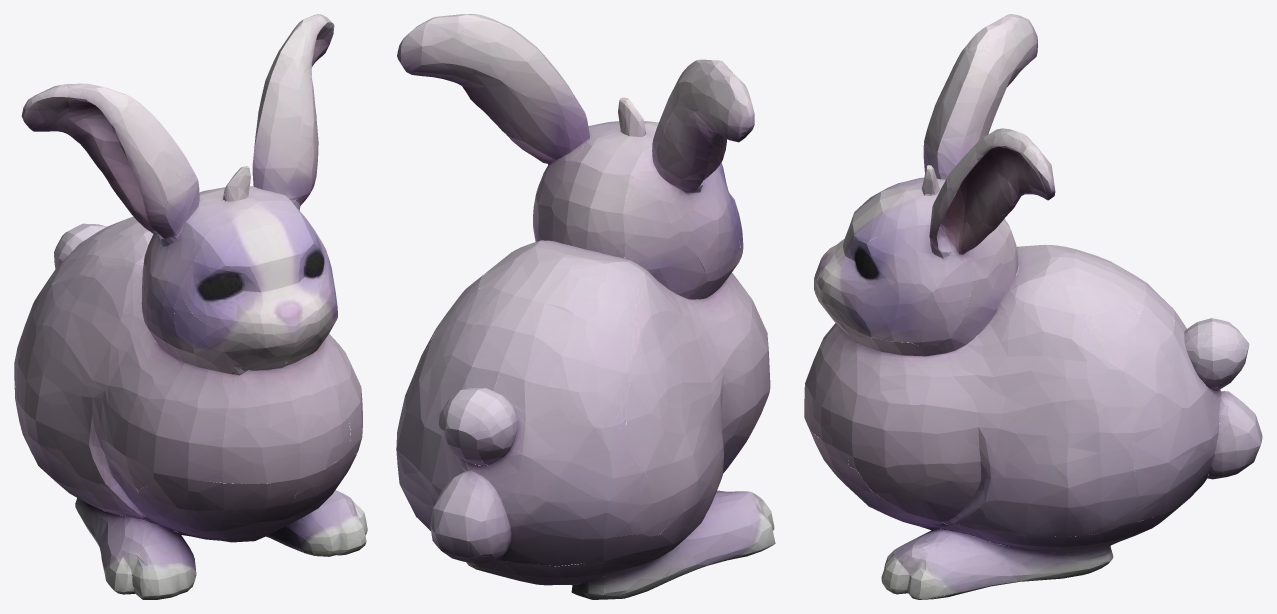
3 renders of one model, left to right at view 1: azimuth 30°, elevation 25°; view 2: azimuth 150°, elevation 25°; view 3: azimuth 270°, elevation 25°, orthographic. The views are drawn at different scales.
Visible parts, largest first — view 1: world; view 2: world; view 3: world.
Part boxes in pixels (box(x1,y1,x2,y2)): world: box(14, 14, 367, 599); world: box(396, 14, 775, 599); world: box(804, 14, 1262, 599).
Size of the model in its own units: 0.7024 by 0.9974 by 0.8903.
1 material, 1 textured.
